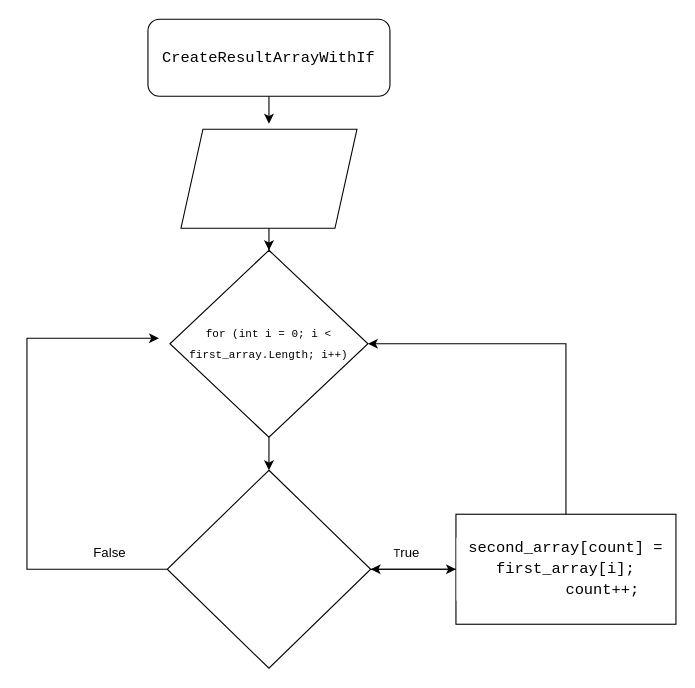
Image size: 695x688. Some labels were removed from this diagram. The box of each missing label's shape, as (x1, y1, x2, y2) in pixels:
if(first_array[i].Length <= 3): (166, 469, 371, 668)
string[] first_array string[] second_array int count = 0: (180, 128, 357, 228)
